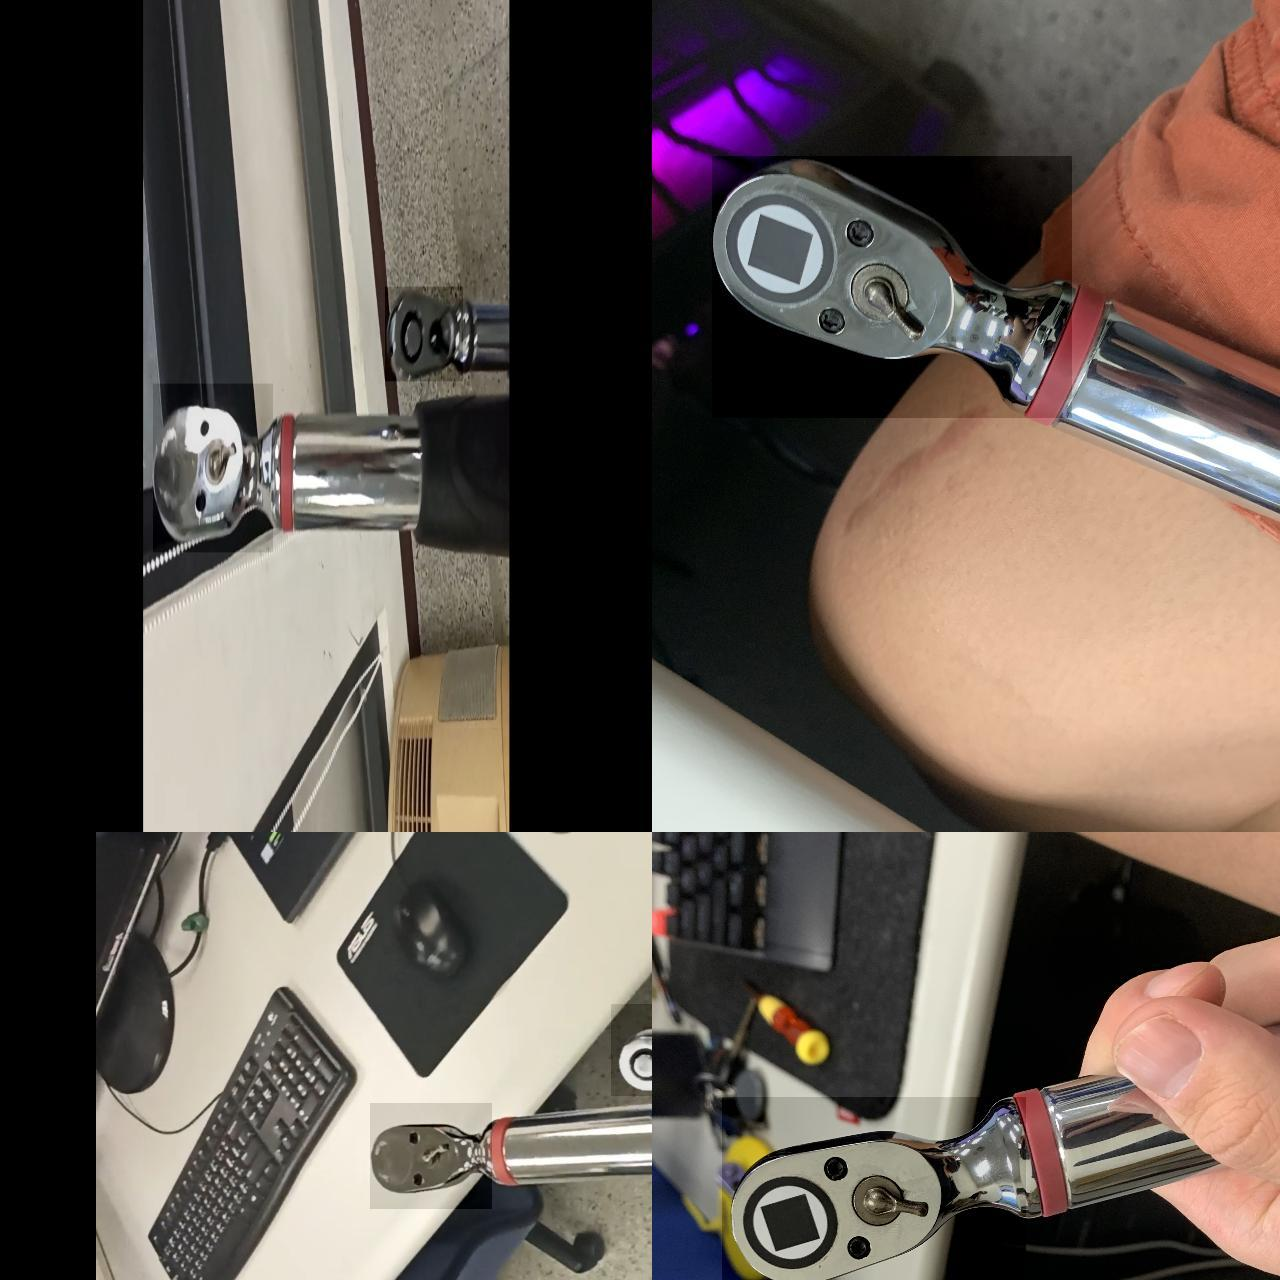Tool: (712, 156, 1071, 418), (721, 1097, 1024, 1280), (152, 383, 272, 552), (369, 1103, 491, 1208), (384, 286, 463, 381), (610, 1005, 652, 1096)
